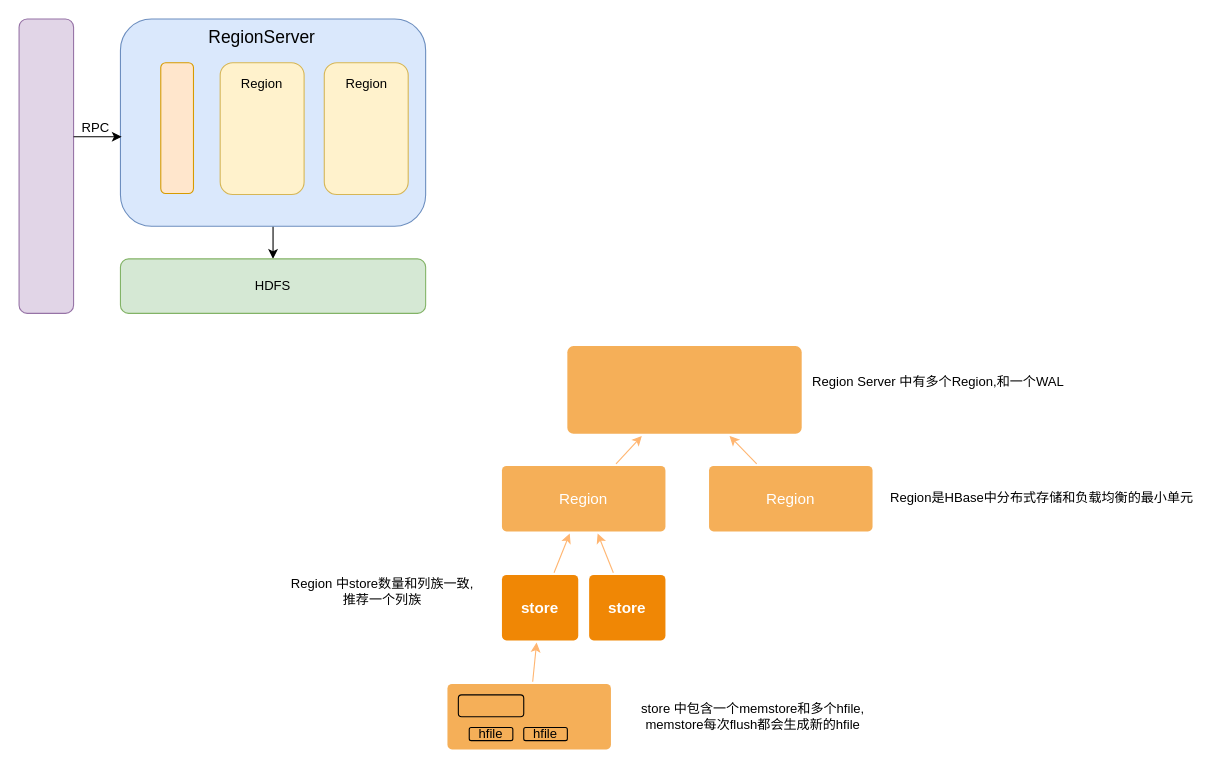
Some shapes in this 1219 by 768 pixel diagram are drawn without their labels. The centre of each missing label's shape, as x and y in pixels:
"client" goes at pixel 46 165.
"memstore" goes at pixel 490 705.
"Region Server" goes at pixel 684 389.
"WAL" goes at pixel 176 127.
